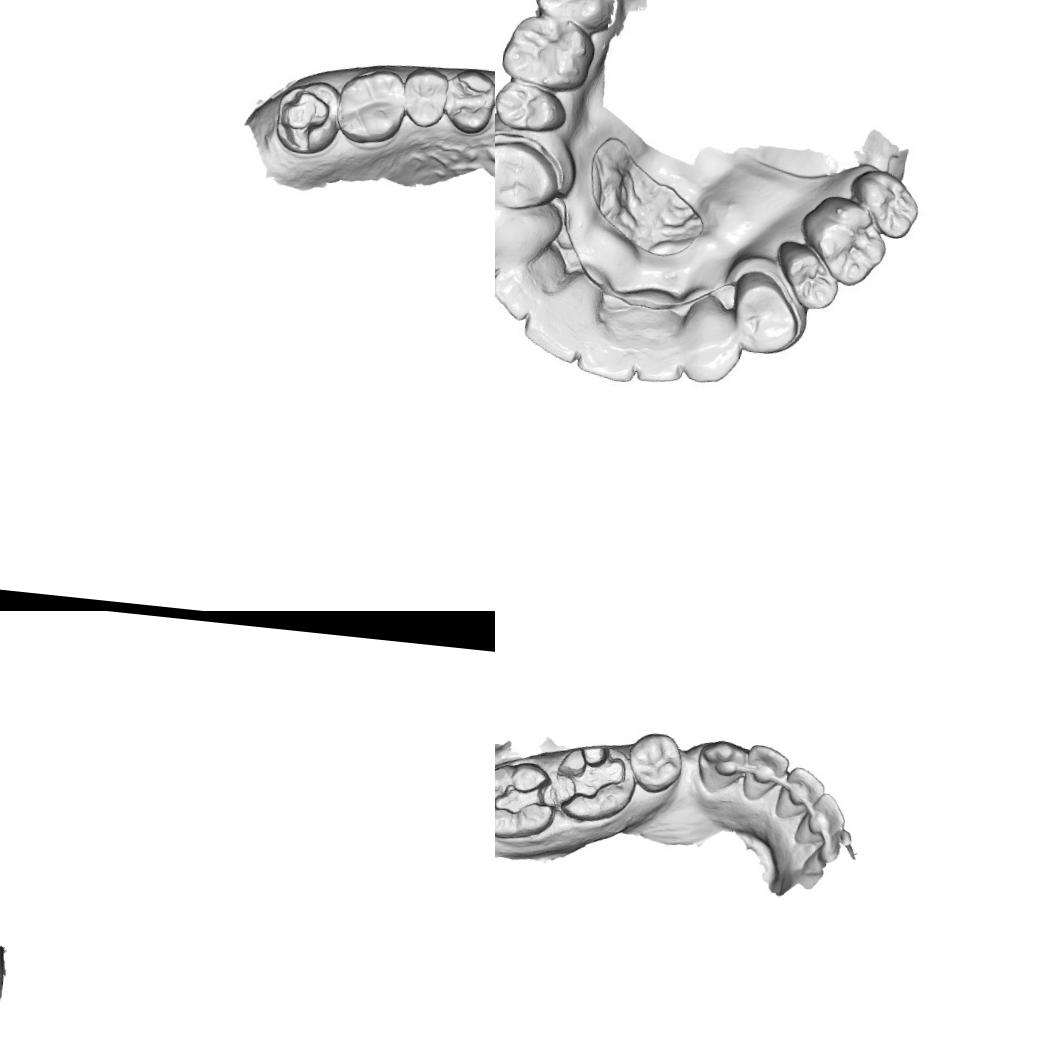canine: (674, 294, 745, 390), (495, 197, 563, 282), (694, 737, 746, 796)
incisor: (518, 290, 592, 370), (570, 311, 644, 386), (628, 310, 688, 386), (793, 789, 848, 849), (495, 258, 541, 328), (774, 765, 827, 822), (742, 743, 791, 804)
inlay: (553, 742, 627, 815), (272, 86, 333, 156), (495, 770, 557, 821)
molar: (795, 192, 892, 290), (497, 10, 601, 97), (334, 65, 408, 148), (844, 166, 923, 243), (530, 0, 625, 35)
premolar: (722, 267, 805, 359), (495, 133, 565, 217), (774, 242, 842, 316), (495, 78, 572, 137), (624, 730, 686, 796), (442, 66, 495, 137), (399, 64, 449, 130)
